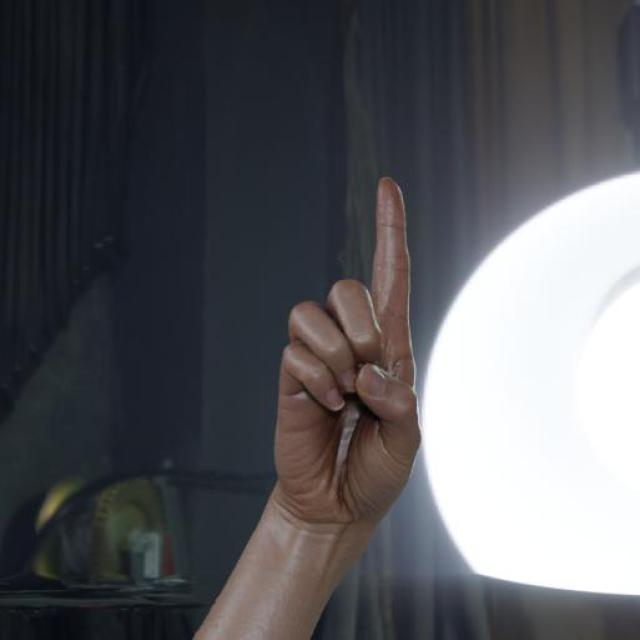D: (262, 176, 423, 523)
